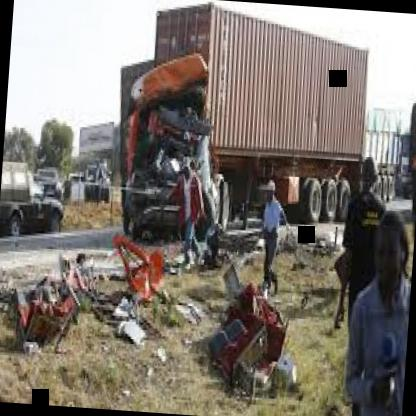accident: (69, 0, 403, 276)
